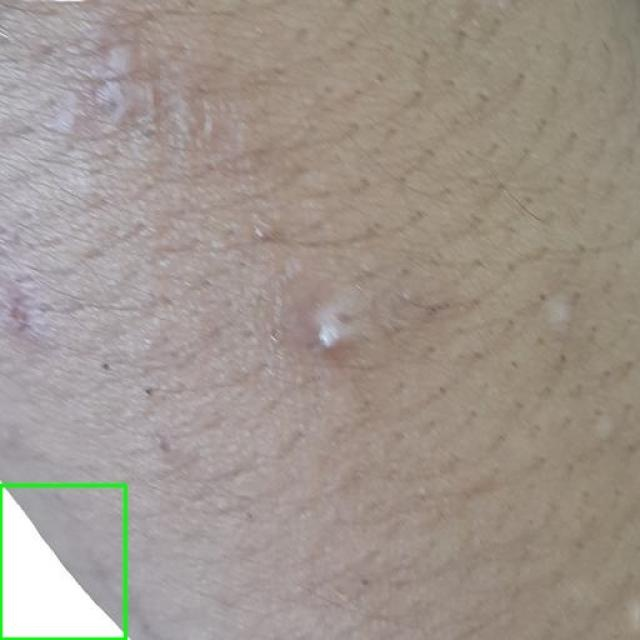Scabies: (0, 485, 126, 639)
